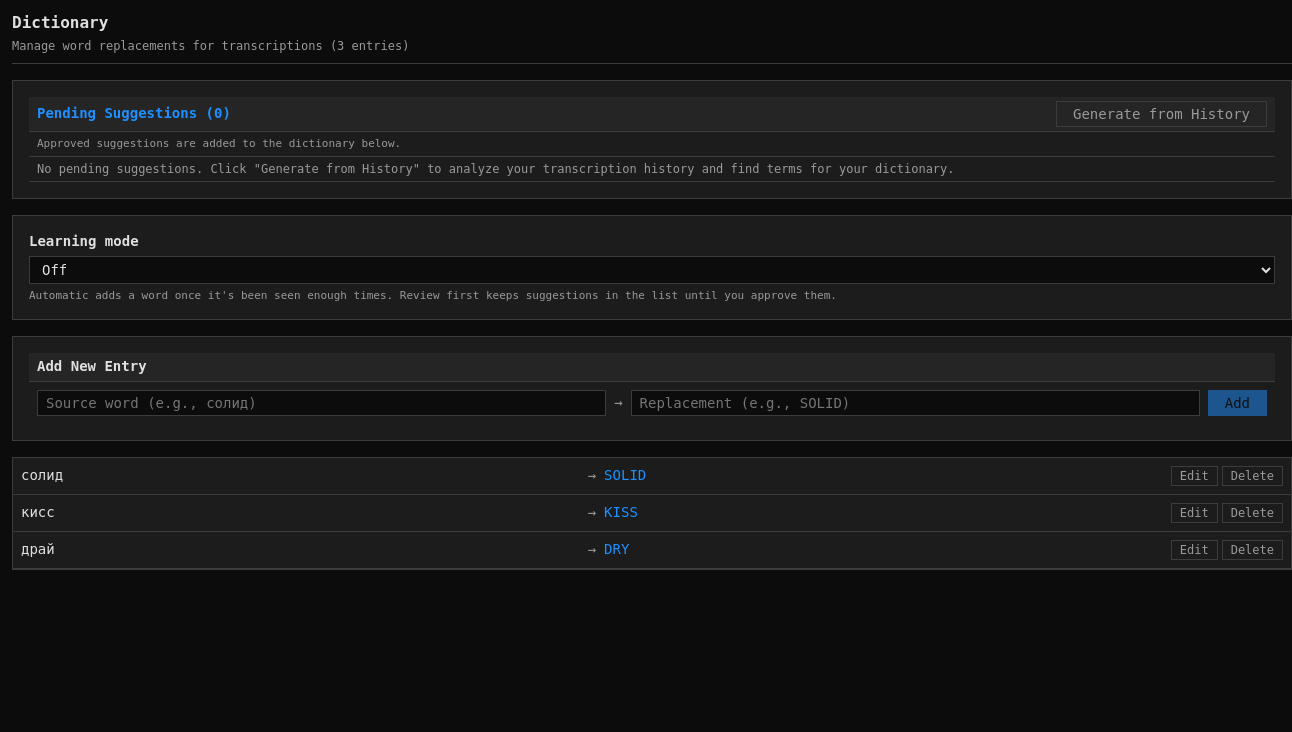
DictionaryPage › shows a status message after generating from history
What coordinates should you click on to do the following:
click the button "Generate from History"
I would click on:
 (1162, 114)
Its box is [1056,101,1267,127].
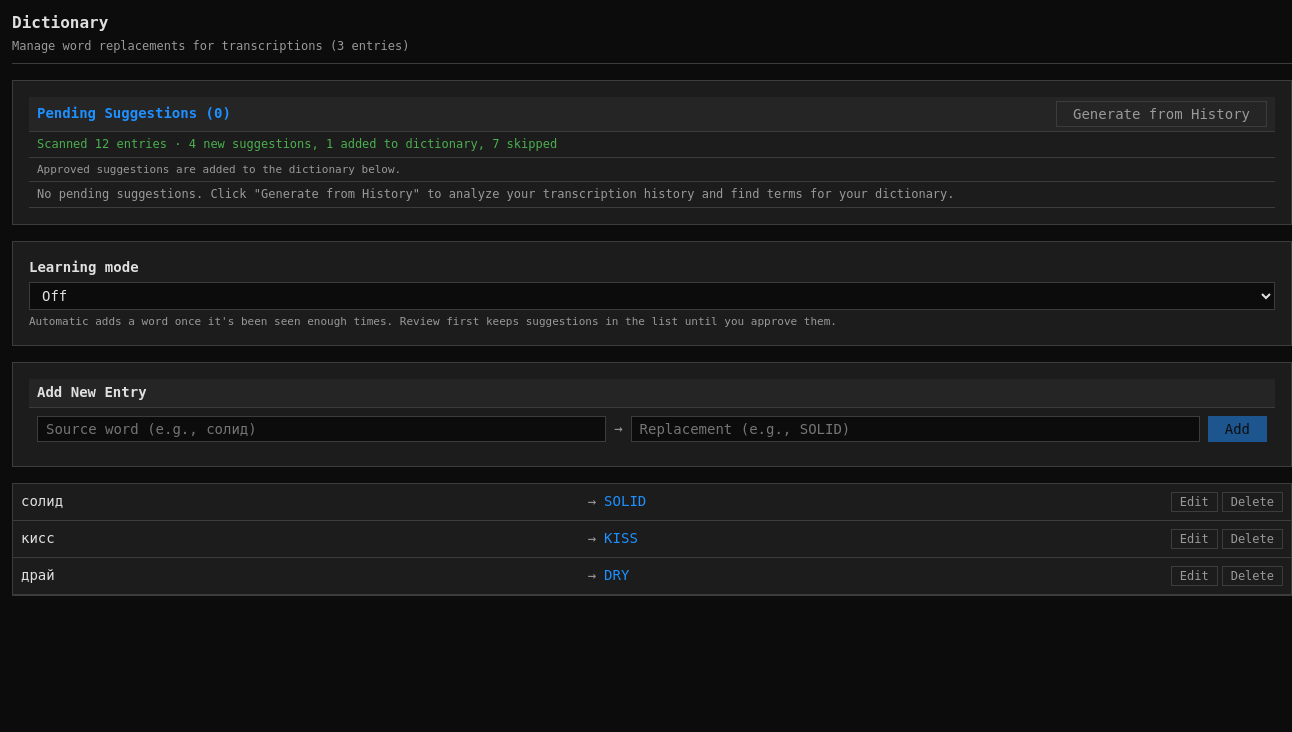
Expected: the message with test id "pending-status" shows "Scanned 12 entries", [37,137,557,151]
Expected: the message with test id "pending-status" shows "4 new suggestions", [37,137,557,151]
Expected: the message with test id "pending-status" shows "1 added to dictionary", [37,137,557,151]
